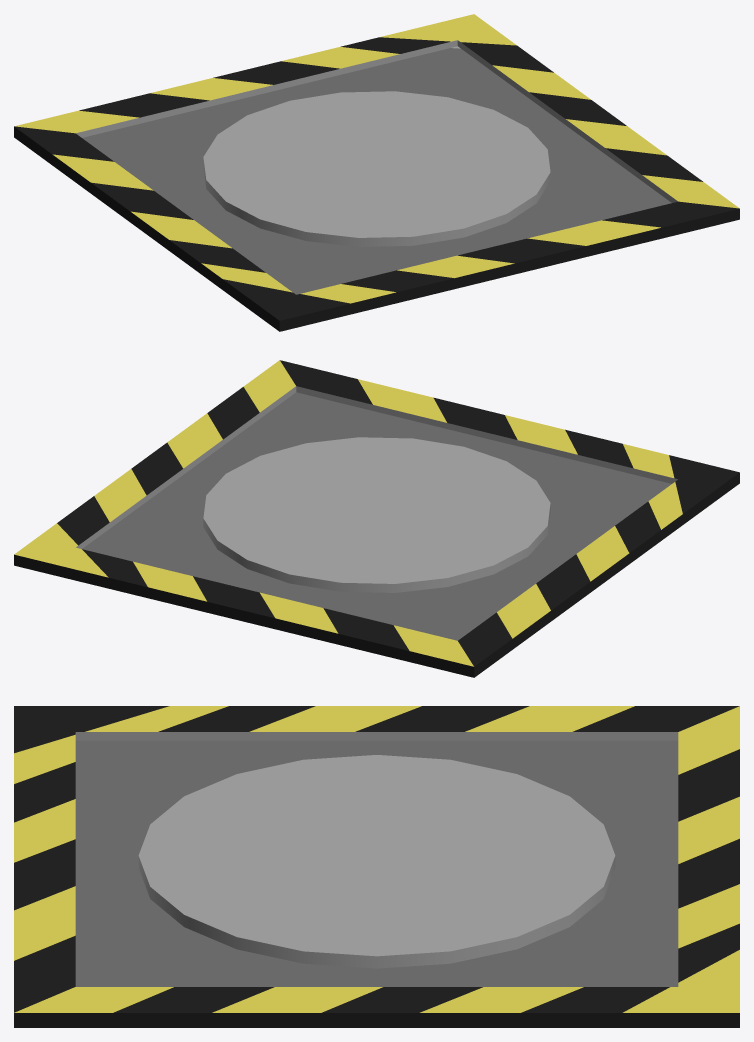
File: Button Case.fbx
The picture shows the model from 3 angles, top to bottom: view 1: azimuth 30°, elevation 25°; view 2: azimuth 150°, elevation 25°; view 3: azimuth 270°, elevation 25°; orthographic projection. The views are drawn at different scales.
Visible parts, largest first — view 1: pCube2; view 2: pCube2; view 3: pCube2.
Boxes of the visible parts, bbox=[...] form: pCube2: bbox=[14, 14, 739, 331]; pCube2: bbox=[14, 360, 739, 677]; pCube2: bbox=[14, 706, 739, 1027].
Size of the model in its own units: 99 by 2.85 by 99.
